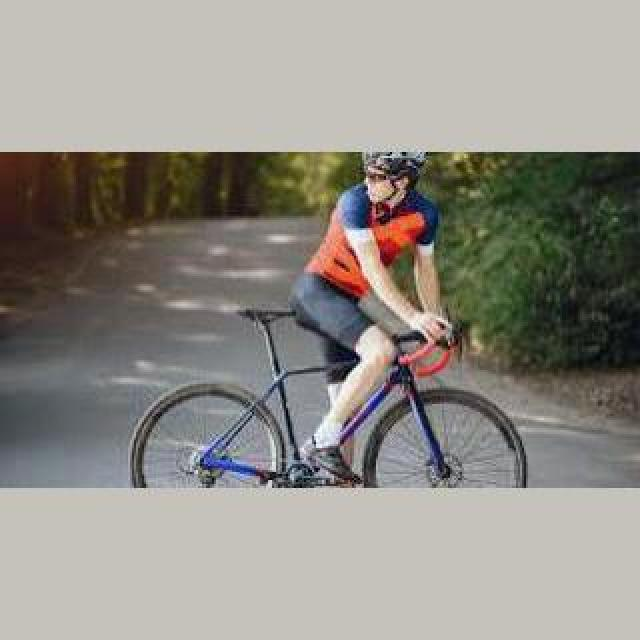MC-Bike: (290, 156, 458, 480)
Person: (130, 304, 530, 488)
